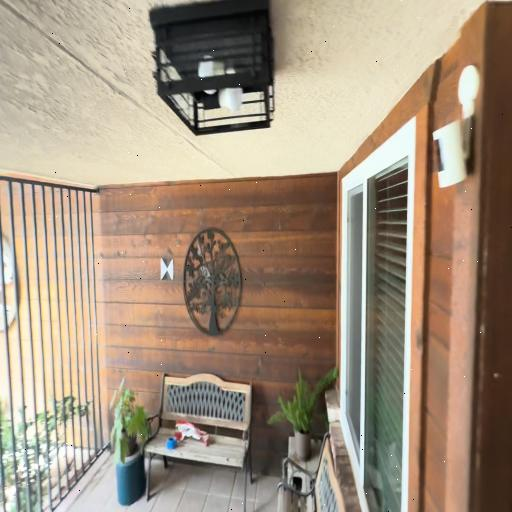target: (160, 256, 174, 280)
